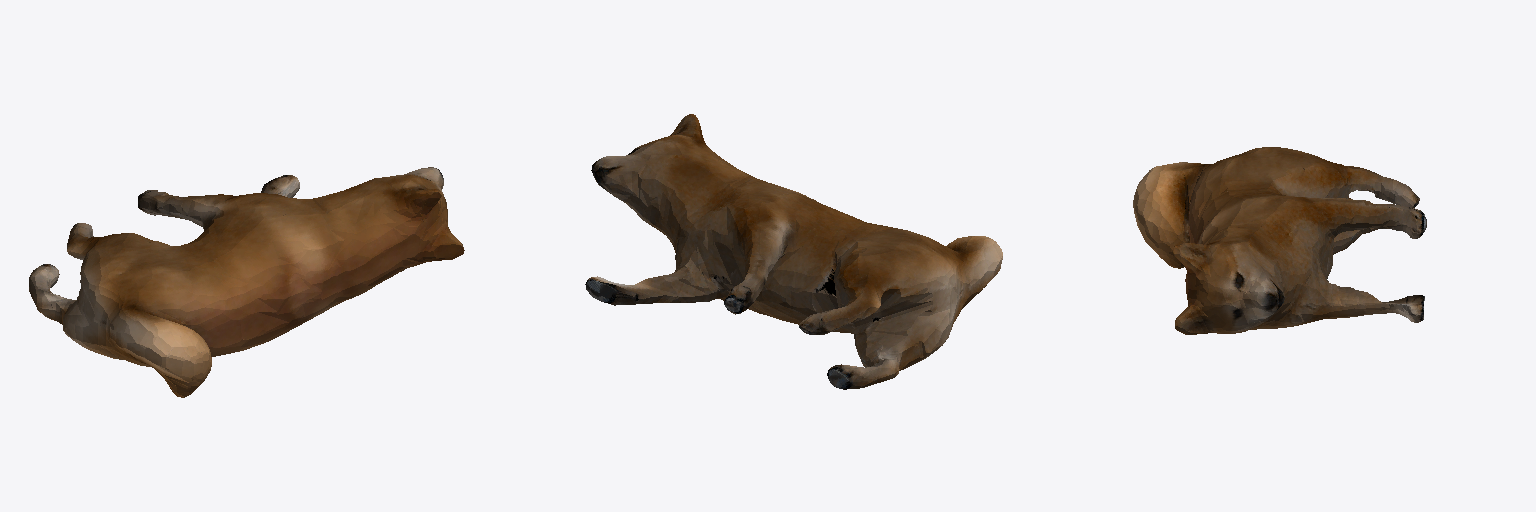
The picture shows the model from 3 angles: view 1: azimuth 30°, elevation 25°; view 2: azimuth 150°, elevation 25°; view 3: azimuth 270°, elevation 25°; orthographic projection.
Size of the model in its own units: 0.656 by 0.2516 by 0.4602.
Materials: 1 (1 with a texture image).